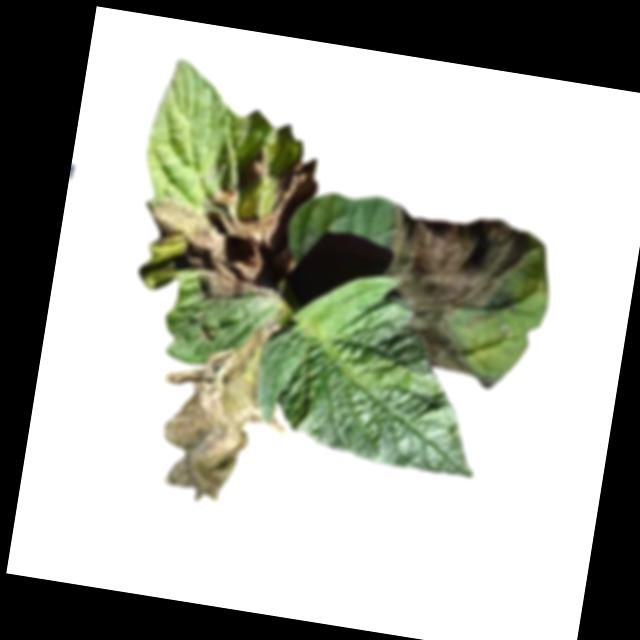Late_blight: (145, 311, 305, 515), (371, 201, 548, 383), (135, 196, 278, 309), (259, 153, 321, 288), (239, 152, 269, 187), (209, 182, 236, 207)
healthy: (244, 257, 501, 479)
